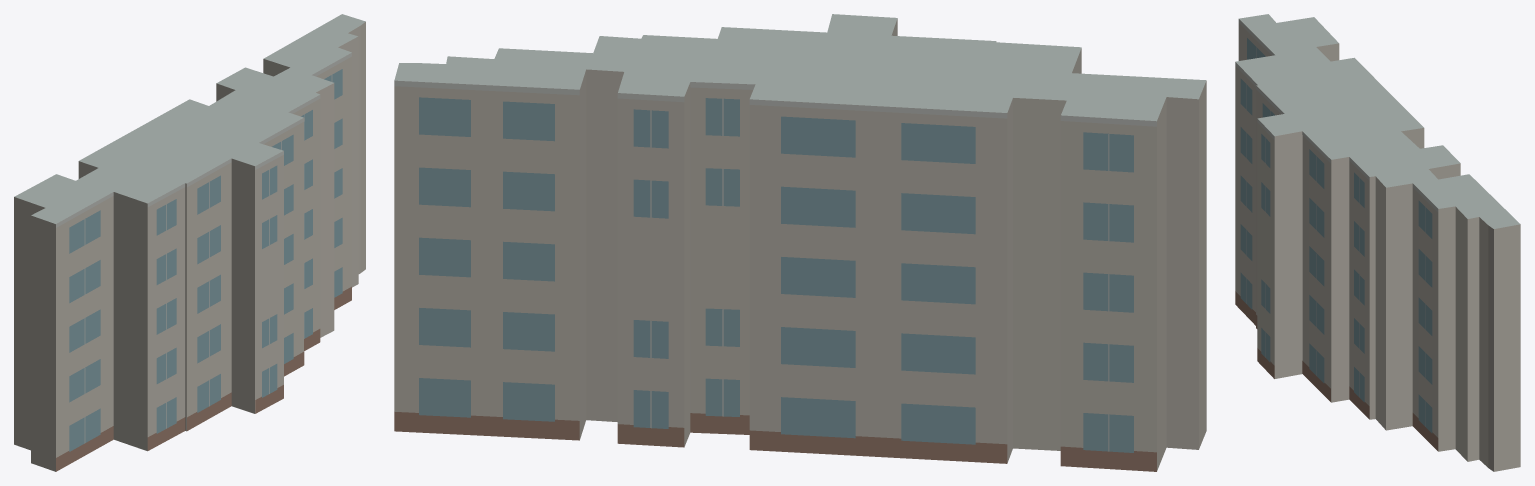
The model's file is survey-upis-32981774.glb.
3 views of the same model, side by side, from view 1: azimuth 30°, elevation 25°; view 2: azimuth 150°, elevation 25°; view 3: azimuth 270°, elevation 25° (orthographic). The views are drawn at different scales.
Parts seen in each view (by area): view 1: survey-upis-32981774.tmp; view 2: survey-upis-32981774.tmp; view 3: survey-upis-32981774.tmp.
Part boxes in pixels (bbox=[...]): survey-upis-32981774.tmp: bbox=[14, 14, 365, 471]; survey-upis-32981774.tmp: bbox=[394, 14, 1206, 471]; survey-upis-32981774.tmp: bbox=[1235, 14, 1520, 471].
Bounding box in the file's own units: 29.27 × 15.4 × 16.41.
